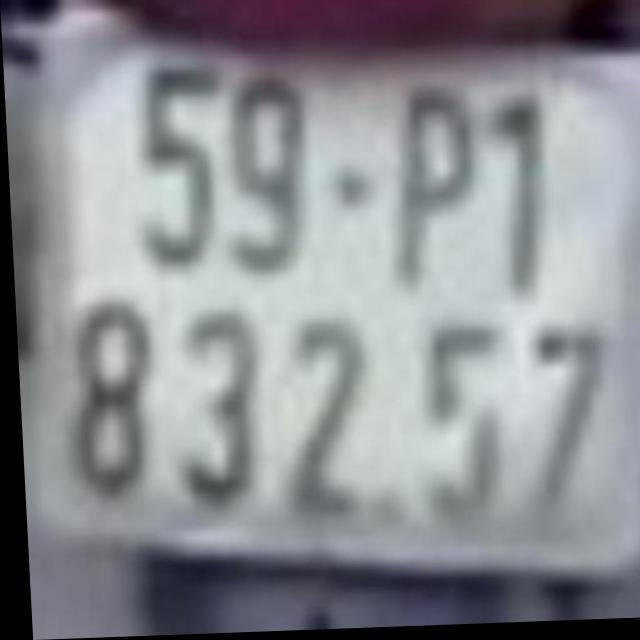1: (490, 96, 549, 296)
2: (264, 313, 366, 525)
3: (161, 309, 255, 506)
5: (408, 319, 499, 525), (143, 63, 214, 265)
7: (514, 322, 607, 544)
8: (62, 295, 150, 505)
9: (220, 74, 308, 276)
P: (377, 70, 490, 300)
